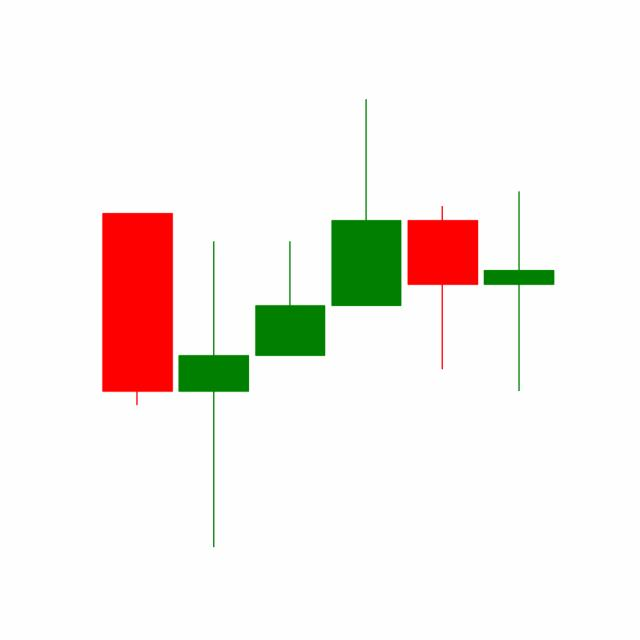Hammer: (403, 203, 481, 371)
